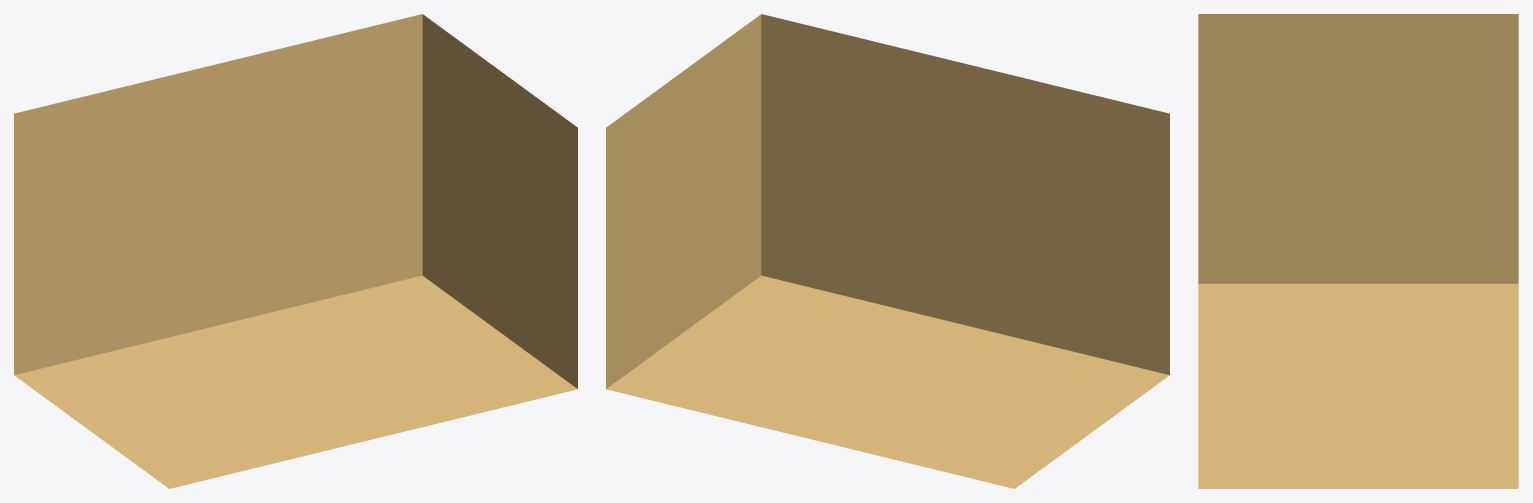
The model's file is tables-nagara-temple-014.glb.
3 views of the same model, side by side, from view 1: azimuth 30°, elevation 25°; view 2: azimuth 150°, elevation 25°; view 3: azimuth 270°, elevation 25° (orthographic). The views are drawn at different scales.
Visible parts, largest first — view 1: Nagara Temple Tables; view 2: Nagara Temple Tables; view 3: Nagara Temple Tables.
Part boxes in pixels (x1,y1,x2,y2): Nagara Temple Tables: [14, 14, 577, 488]; Nagara Temple Tables: [606, 14, 1169, 488]; Nagara Temple Tables: [1198, 14, 1518, 488].
Size of the model in its own units: 2.55 by 1.56 by 1.68.
